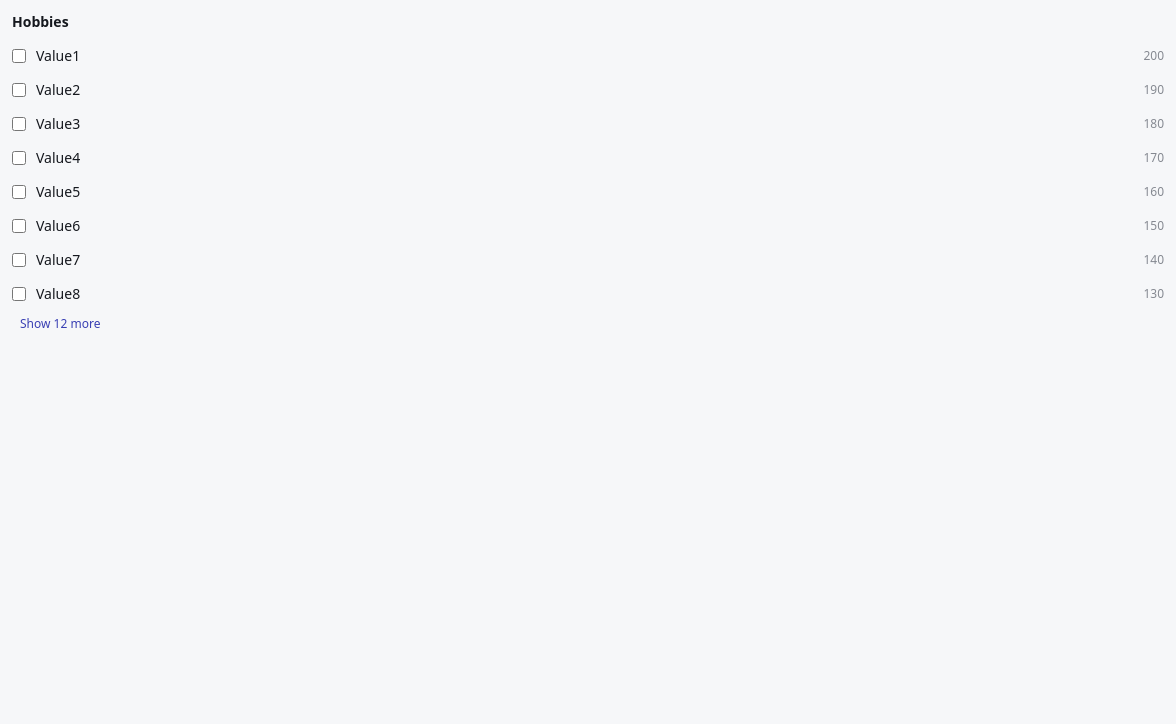
Test: FacetGroup › collapsing › reveals the rest on request
Click the button "Show 12 more". click: (60, 324)
box: [12,316,108,332]
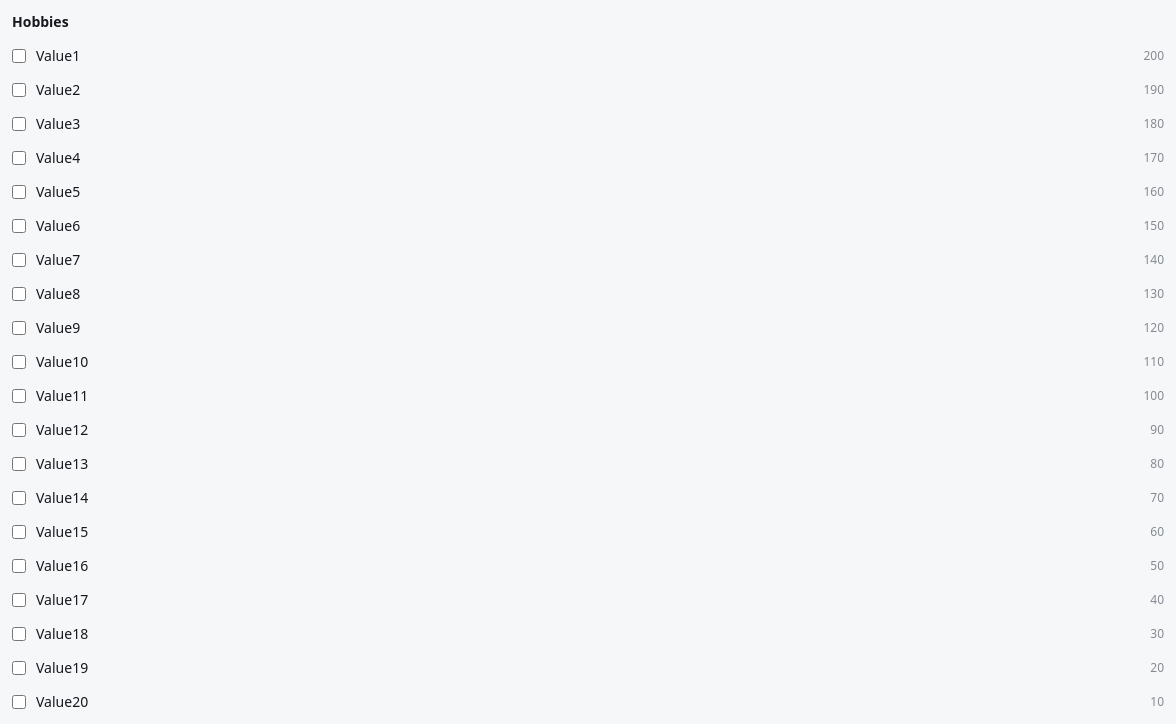
Expected: the number of checkboxes is 20
